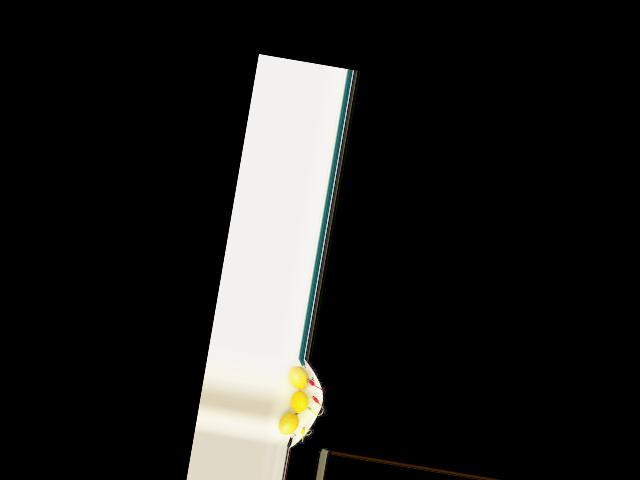lemon: (288, 365, 314, 391)
